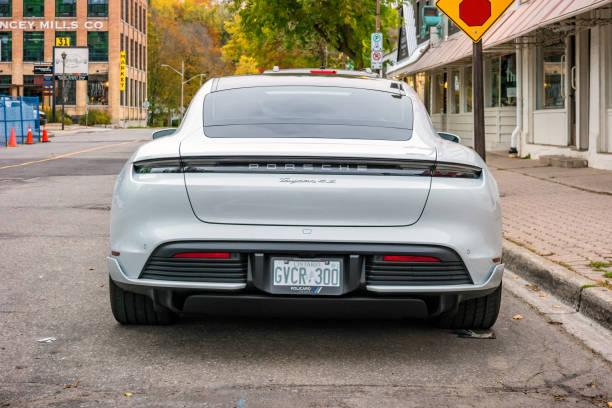porsche: (244, 157, 370, 176)
